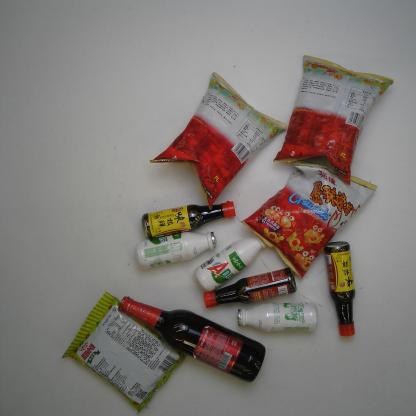Alcohol: (117, 296, 268, 382)
Milk: (192, 234, 266, 292), (137, 230, 216, 270), (237, 302, 319, 332)
Puffed Food: (149, 72, 288, 212), (238, 160, 383, 276), (272, 55, 395, 185), (59, 291, 186, 414)
Seasoner: (142, 198, 237, 240), (203, 269, 299, 306), (324, 241, 357, 337)
